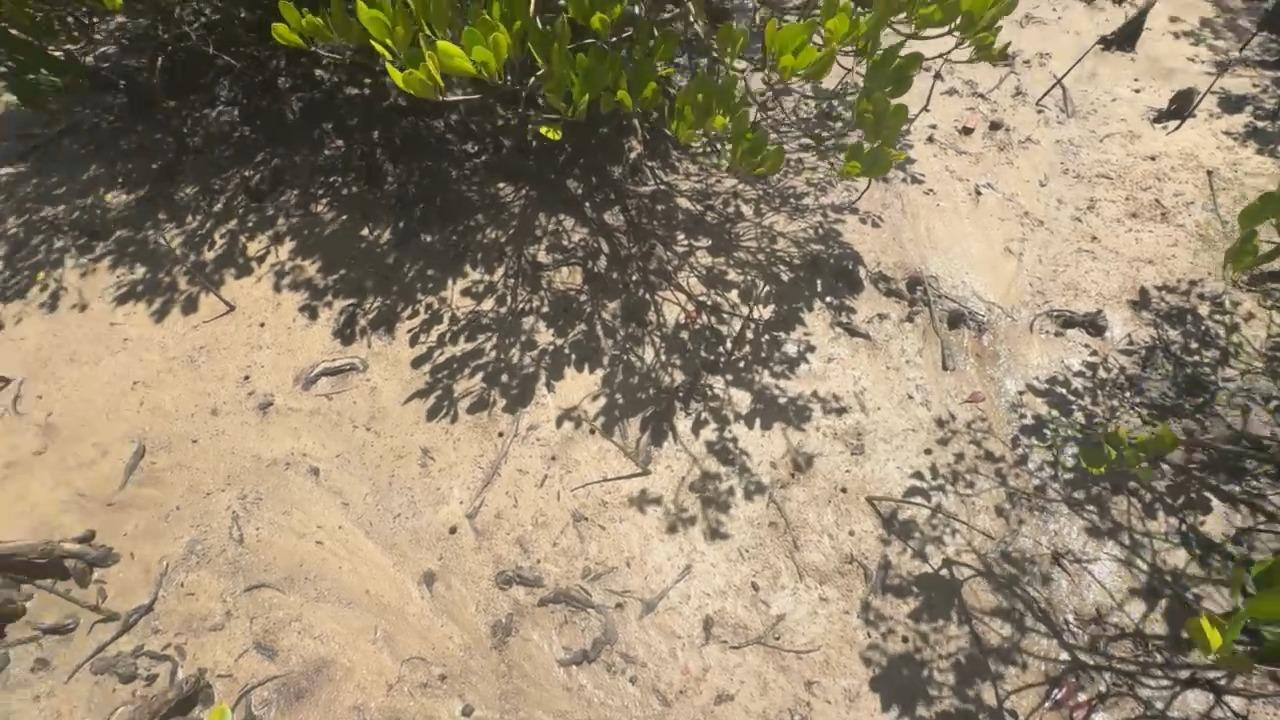Tree: (161, 231, 237, 311), (866, 495, 997, 540), (10, 572, 122, 621), (577, 413, 651, 474), (1034, 40, 1099, 104), (1179, 65, 1227, 129), (925, 55, 949, 107), (1240, 29, 1258, 54)
